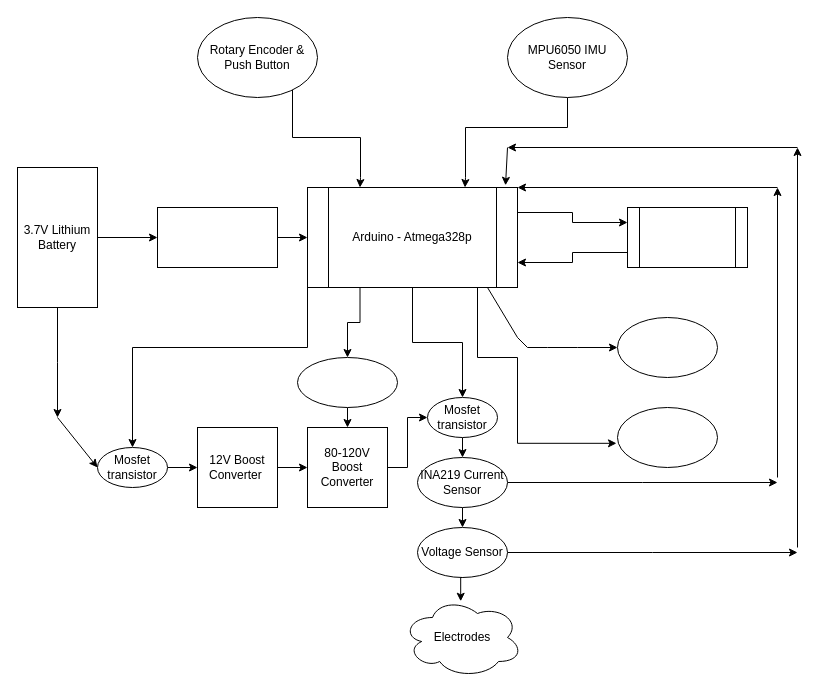
Some shapes in this 823 by 695 pixel diagram are drawn without their labels. The box of each missing label's shape, as (x1, y1, x2, y2) in pixels:
0.96" OLED Screen: (616, 316, 718, 378)
3 Debugging LEDs: (616, 406, 718, 468)
5V Boost Converter: (156, 206, 278, 268)
digital potentiometer: (296, 356, 398, 408)
ESP8266-01: (626, 206, 748, 268)
